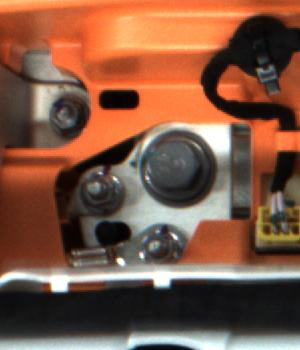nut_b: (136, 129, 228, 208)
